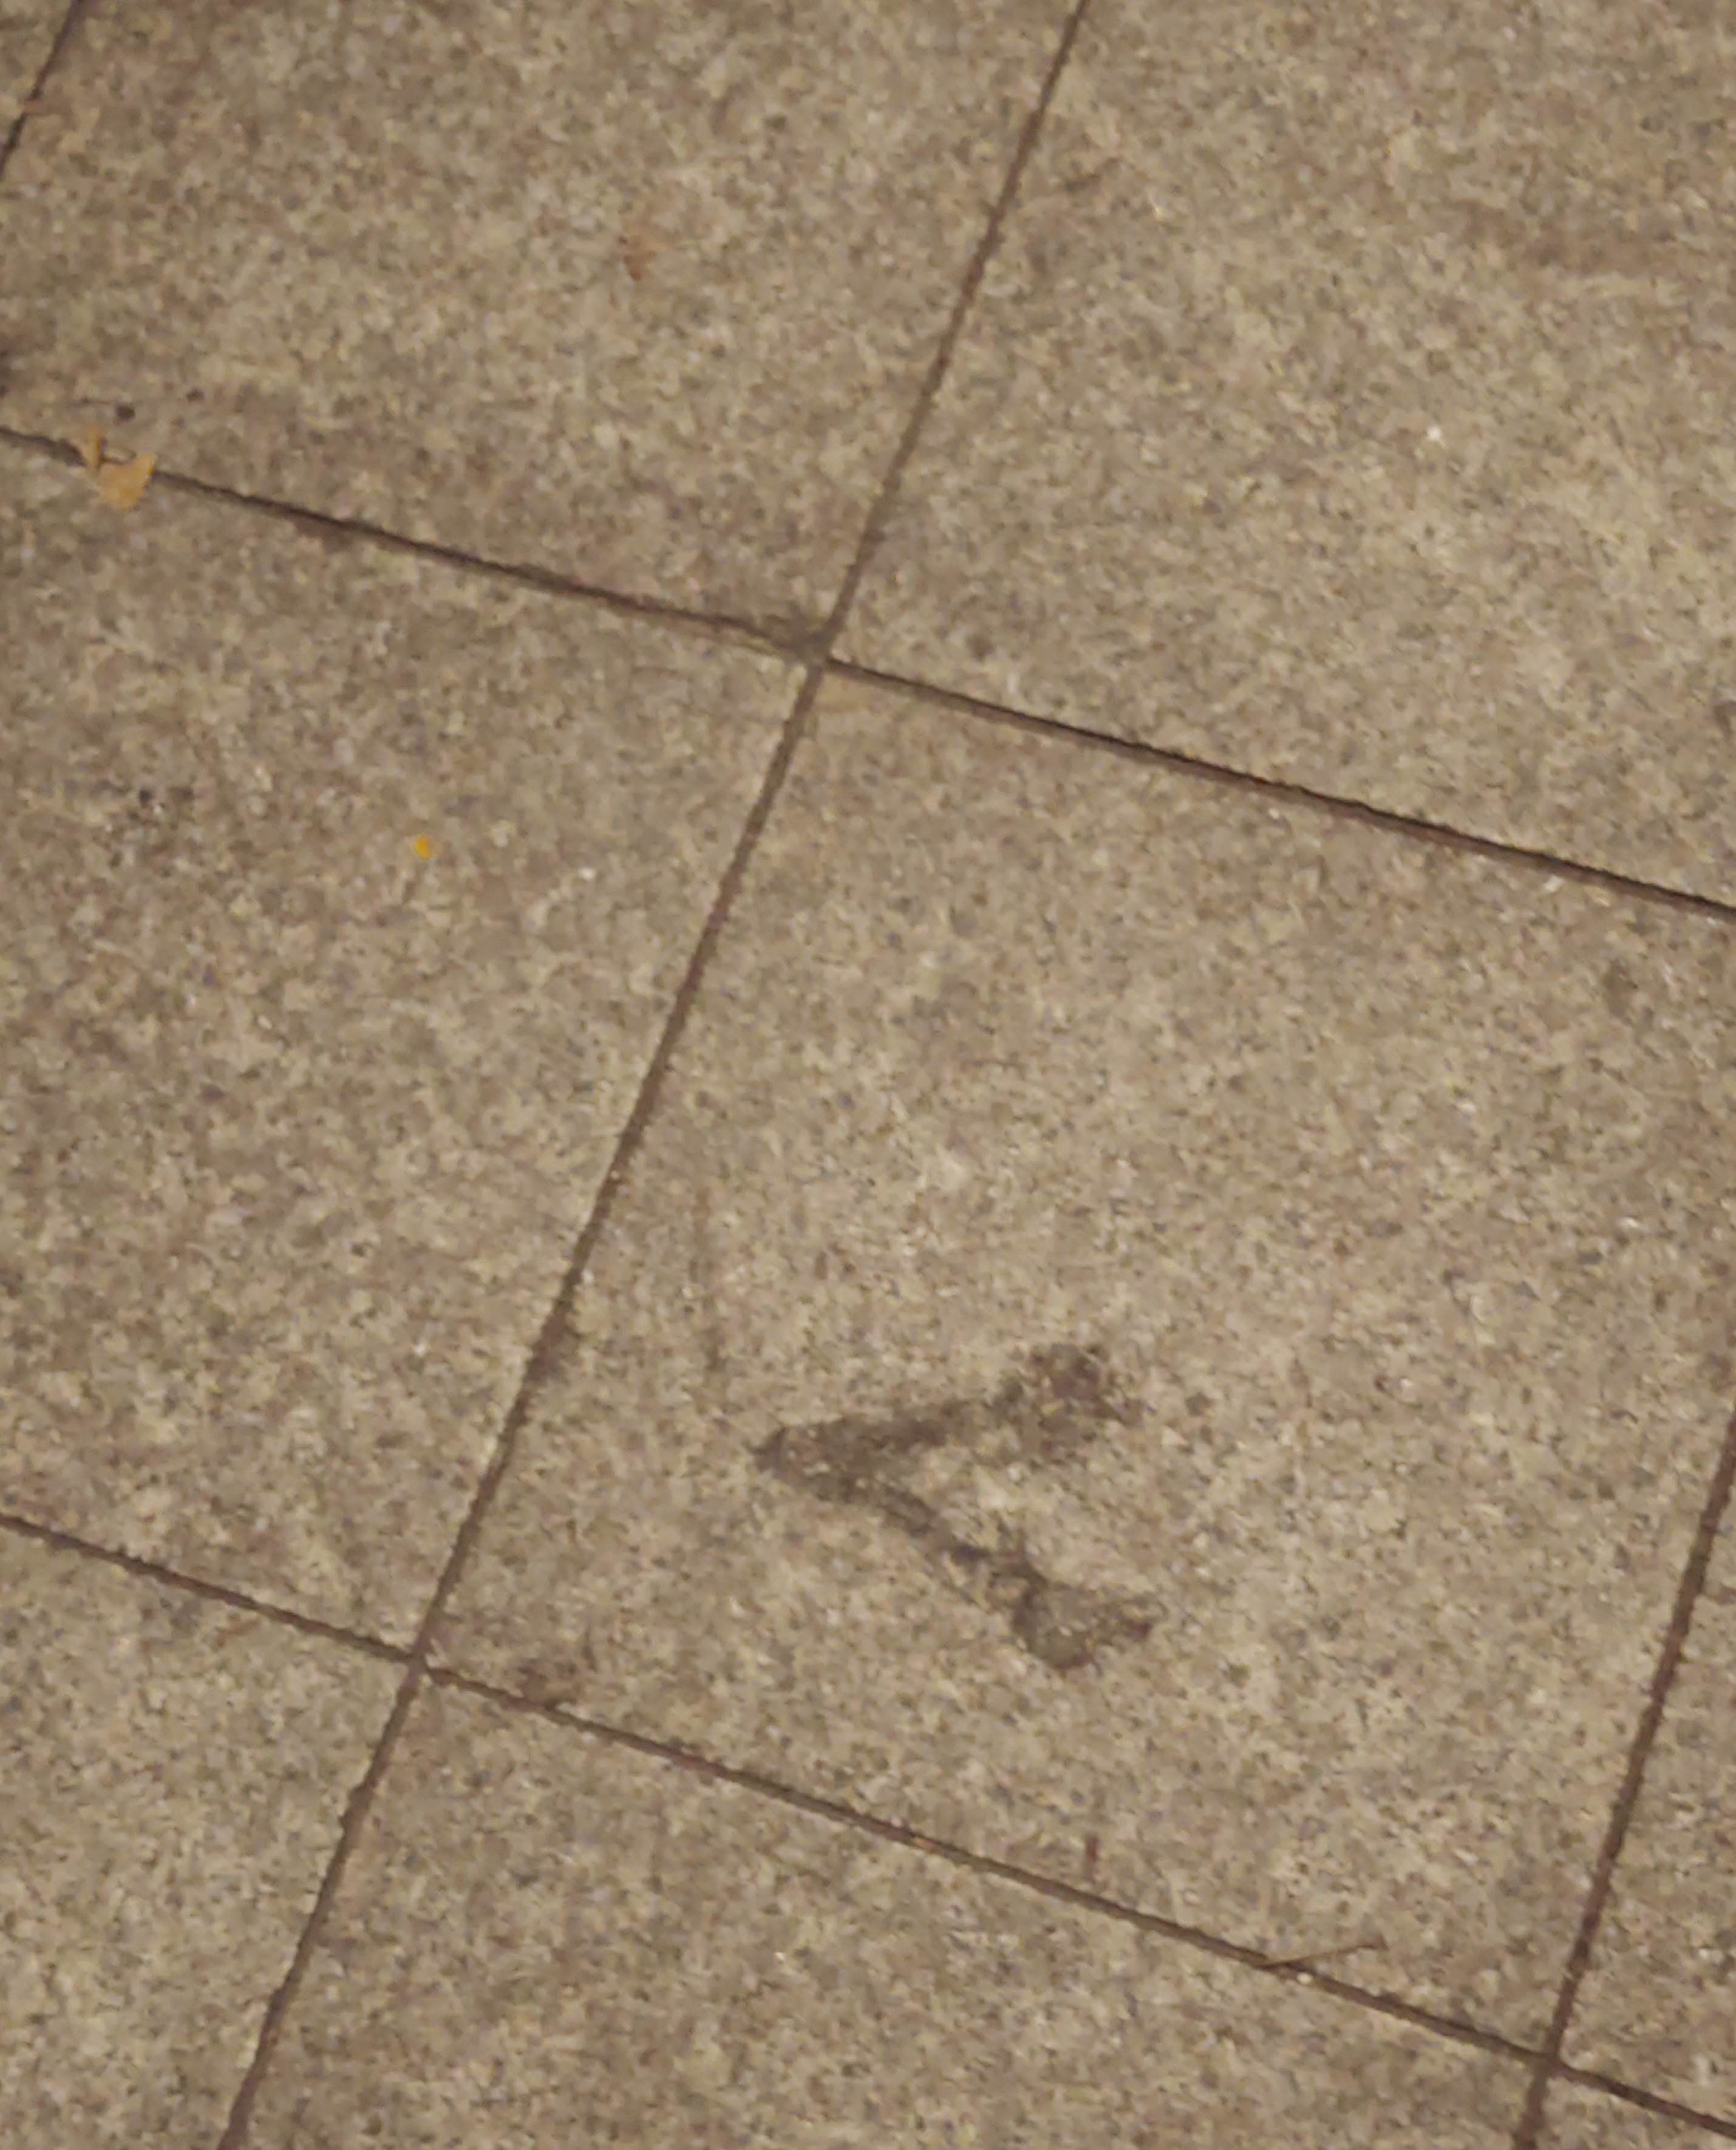grey spot: (749, 1342, 1153, 1674)
